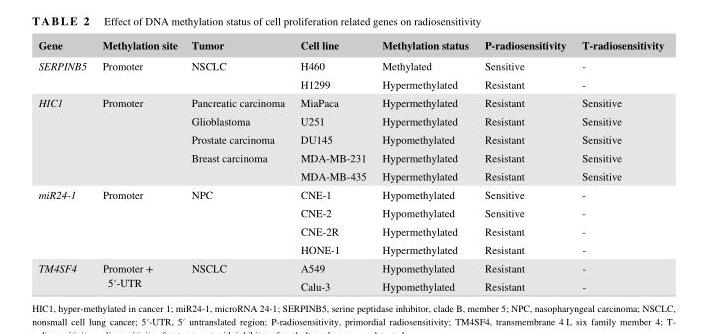table: (37, 37, 663, 295)
table column: (183, 37, 291, 295), (373, 37, 475, 295), (475, 37, 573, 295), (93, 37, 183, 295), (573, 37, 663, 295), (291, 37, 373, 295), (37, 37, 93, 295)
table column header: (37, 37, 663, 56)
table row: (37, 37, 663, 56), (37, 56, 663, 75), (37, 93, 663, 112), (37, 130, 663, 149), (37, 185, 663, 204), (37, 240, 663, 259), (37, 75, 663, 93), (37, 112, 663, 130), (37, 149, 663, 167), (37, 167, 663, 185), (37, 204, 663, 222), (37, 222, 663, 240), (37, 259, 663, 277), (37, 277, 663, 295)
table spanning cell: (93, 93, 183, 185), (183, 185, 291, 259), (93, 185, 183, 259), (37, 93, 93, 185), (37, 185, 93, 259), (183, 56, 291, 93), (183, 259, 291, 295), (93, 56, 183, 93), (93, 259, 183, 295), (37, 56, 93, 93), (37, 259, 93, 295)
